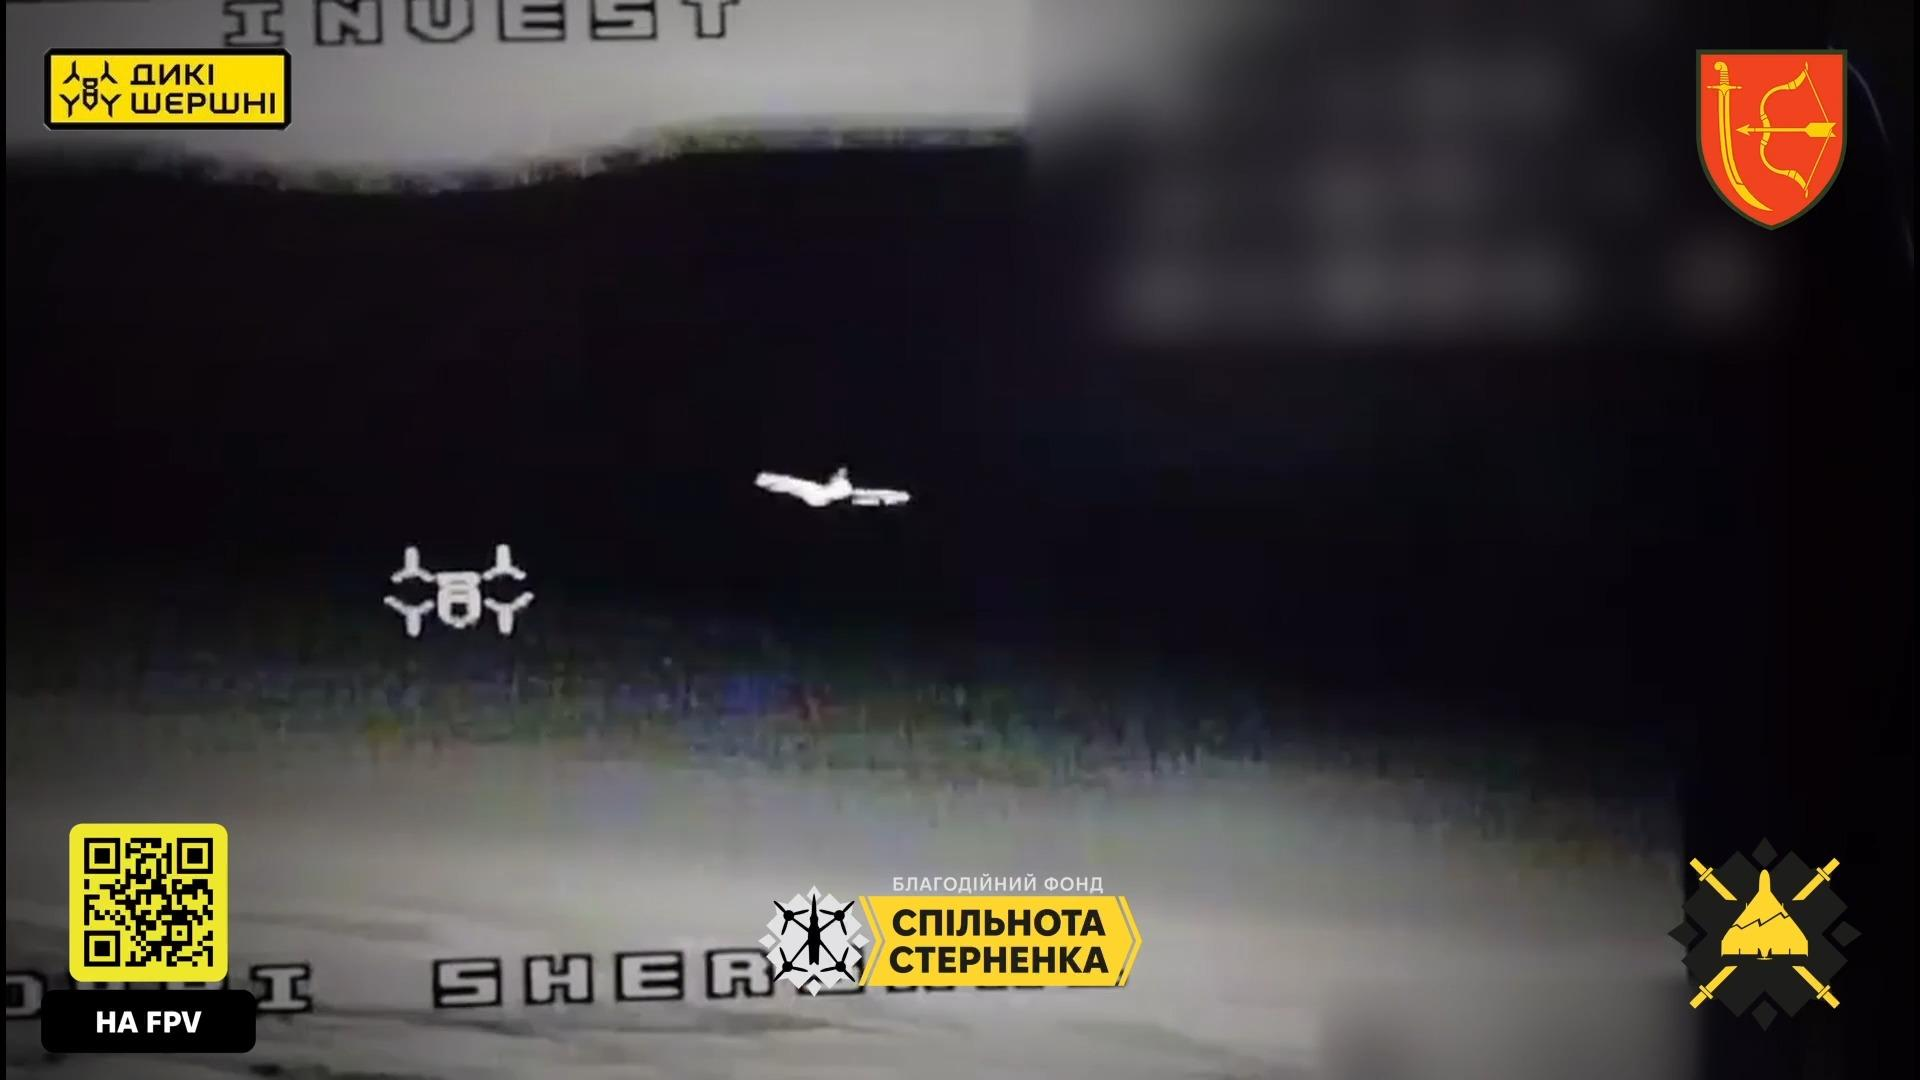Gerbera: (754, 464, 914, 509)
